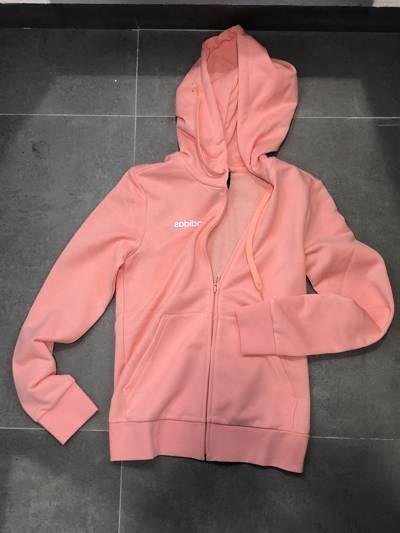Hoodie: (8, 21, 375, 497)
